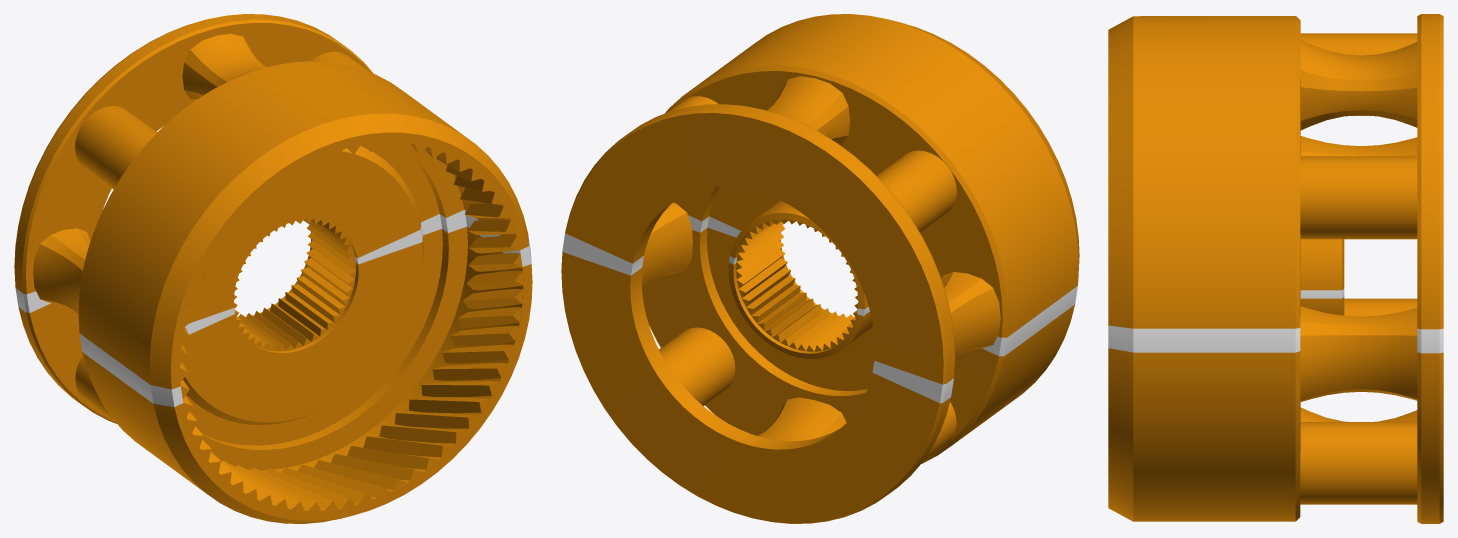
3 renders of one model, left to right at view 1: azimuth 30°, elevation 25°; view 2: azimuth 150°, elevation 25°; view 3: azimuth 270°, elevation 25°, orthographic. The views are drawn at different scales.
Parts seen in each view (by area): view 1: 673; view 2: 673; view 3: 673.
Boxes of the visible parts, x1,y1,x2,y2 form: 673: (14,14,532,523); 673: (561,14,1079,523); 673: (1108,14,1443,523).
Bounding box in the file's own units: 1109 × 1109 × 729.
